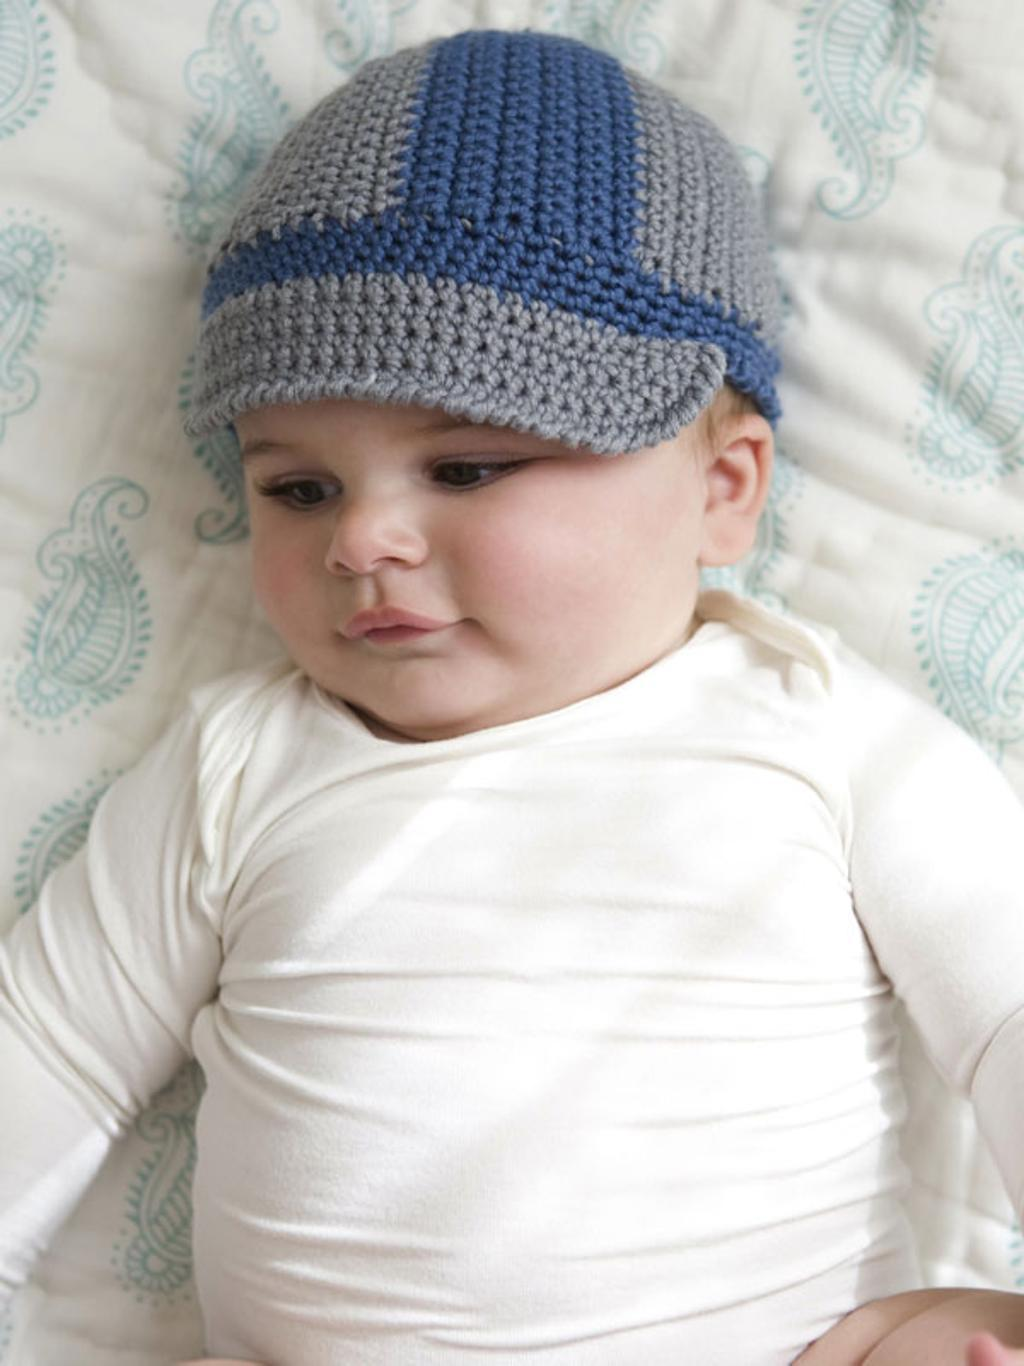face: (249, 326, 702, 734)
